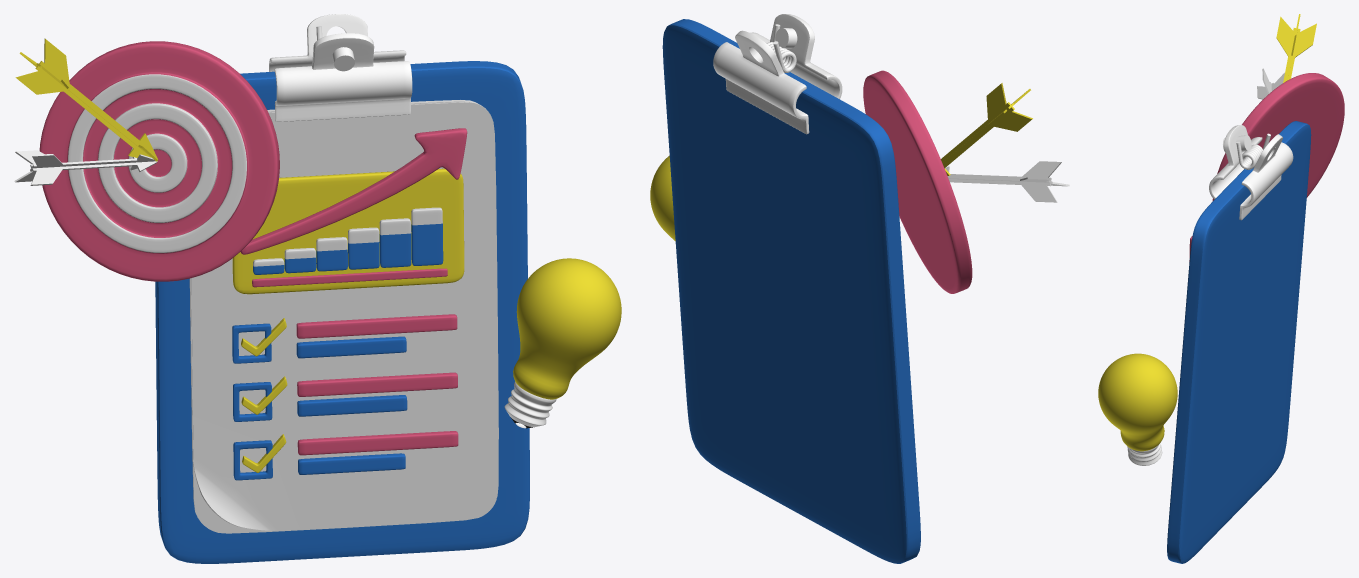
Rendered from business-plan-3d-animated-icon-870095049367.glb.
3 renders of one model, left to right at view 1: azimuth 30°, elevation 25°; view 2: azimuth 150°, elevation 25°; view 3: azimuth 270°, elevation 25°, orthographic. The views are drawn at different scales.
Parts seen in each view (by area): view 1: Plane.034, Cylinder.006, Report, Plane.035, Lamp.001, Cylinder.034, Plane.036, Cube.031, Plane.029, Plane.008, Plane.004, Plane.032 (+13 smaller); view 2: Report, Cylinder.006, Cylinder.034, Cube.031, Lamp.001; view 3: Report, Cylinder.006, Lamp.001, Cylinder.034, Cube.031, Lamp.
Part boxes in pixels (bbox=[...]): Plane.034: bbox=[191, 102, 497, 530]; Cylinder.006: bbox=[39, 41, 279, 281]; Report: bbox=[155, 61, 529, 563]; Plane.035: bbox=[232, 168, 464, 294]; Lamp.001: bbox=[513, 258, 621, 399]; Cylinder.034: bbox=[269, 14, 412, 121]; Plane.036: bbox=[240, 128, 467, 254]; Cube.031: bbox=[14, 38, 157, 185]; Plane.029: bbox=[296, 314, 457, 338]; Plane.008: bbox=[297, 431, 458, 455]; Plane.004: bbox=[297, 372, 457, 396]; Plane.032: bbox=[189, 100, 498, 533]; Report: bbox=[662, 19, 920, 563]; Cylinder.006: bbox=[863, 70, 972, 293]; Cylinder.034: bbox=[713, 14, 842, 134]; Cube.031: bbox=[941, 83, 1069, 202]; Lamp.001: bbox=[650, 155, 675, 241]; Report: bbox=[1167, 121, 1311, 563]; Cylinder.006: bbox=[1212, 73, 1344, 200]; Lamp.001: bbox=[1098, 353, 1177, 451]; Cylinder.034: bbox=[1209, 125, 1293, 220]; Cube.031: bbox=[1257, 14, 1316, 99]; Lamp: bbox=[1127, 442, 1162, 465].
Size of what is drawn, in the model's own units: 8.39 by 8.56 by 4.66.
